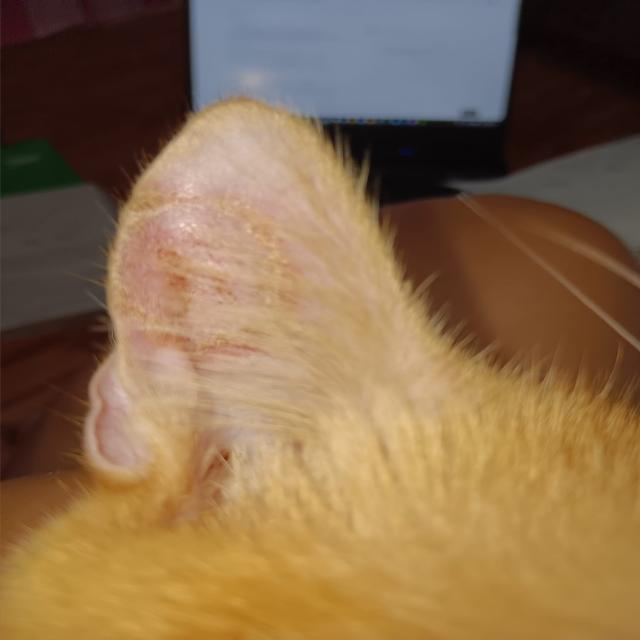Mange: (122, 247, 193, 316), (132, 183, 208, 244)
